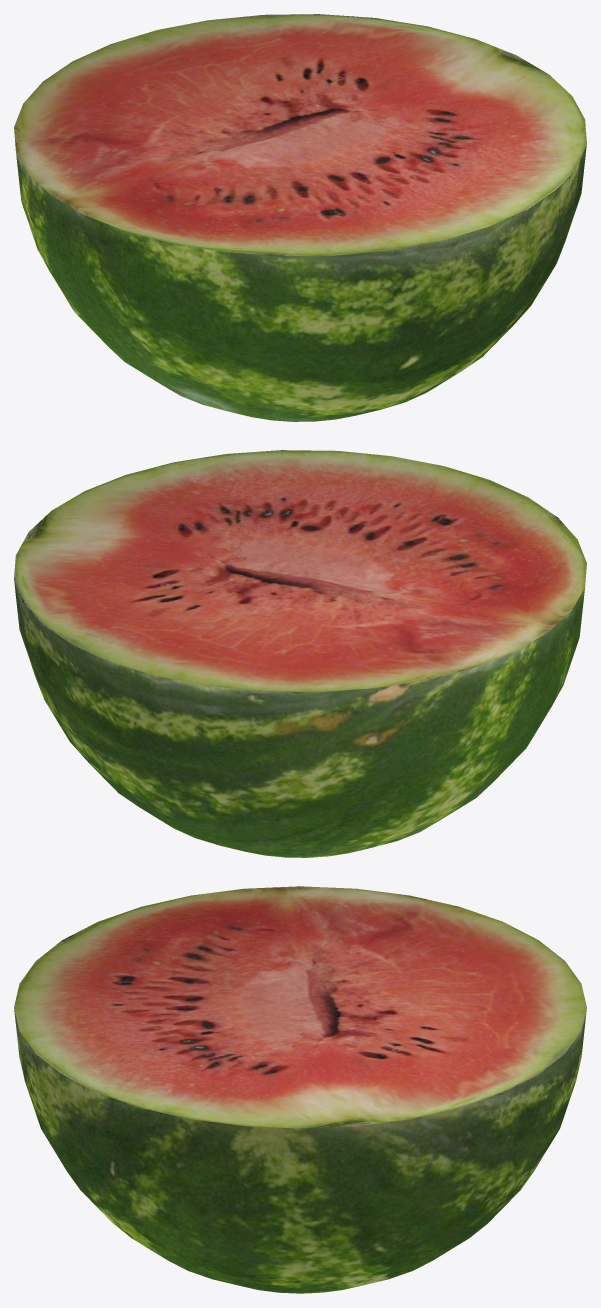
The model's file is watermelon_fruit.glb.
3 renders of one model, top to bottom at view 1: azimuth 30°, elevation 25°; view 2: azimuth 150°, elevation 25°; view 3: azimuth 270°, elevation 25°, orthographic.
Parts seen in each view (by area): view 1: Sphere_0; view 2: Sphere_0; view 3: Sphere_0.
Part boxes in pixels (left/top/right/bottom): Sphere_0: left=14, top=14, right=586, bottom=421; Sphere_0: left=14, top=450, right=586, bottom=857; Sphere_0: left=14, top=886, right=586, bottom=1293.
Bounding box in the file's own units: 0.3907 × 0.1953 × 0.3907.
1 material, 1 textured.
